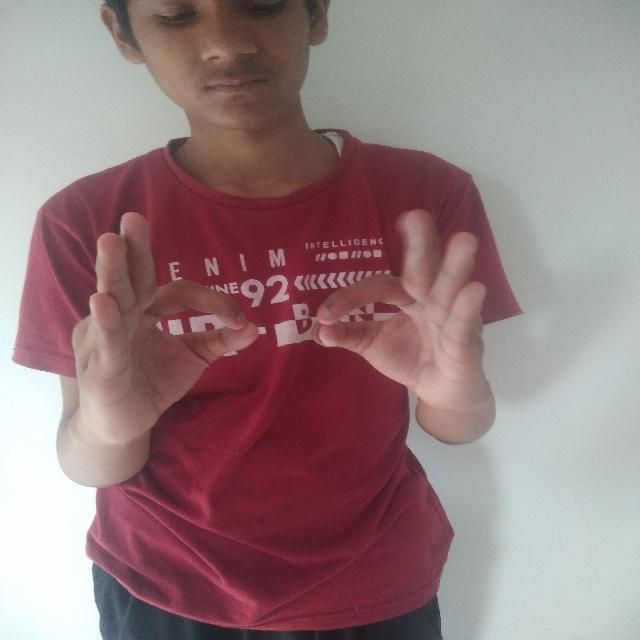Okay: (70, 206, 262, 449), (307, 202, 513, 423)
